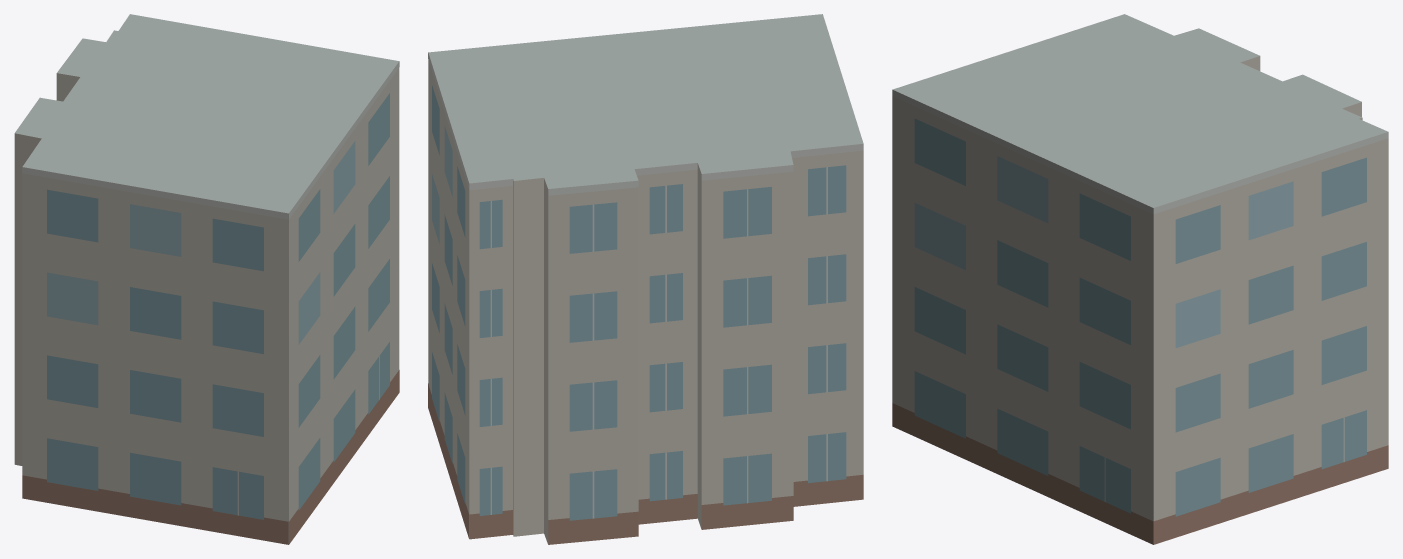
Rendered from survey-upis-33038178.glb.
The picture shows the model from 3 angles, left to right: view 1: azimuth 30°, elevation 25°; view 2: azimuth 150°, elevation 25°; view 3: azimuth 270°, elevation 25°; orthographic projection. The views are drawn at different scales.
Parts seen in each view (by area): view 1: survey-upis-33038178.tmp; view 2: survey-upis-33038178.tmp; view 3: survey-upis-33038178.tmp.
Boxes of the visible parts, x1,y1,x2,y2 form: survey-upis-33038178.tmp: (14,14,399,544); survey-upis-33038178.tmp: (428,14,863,544); survey-upis-33038178.tmp: (892,14,1388,544).
Bounding box in the file's own units: 15.99 × 12.93 × 17.27.
